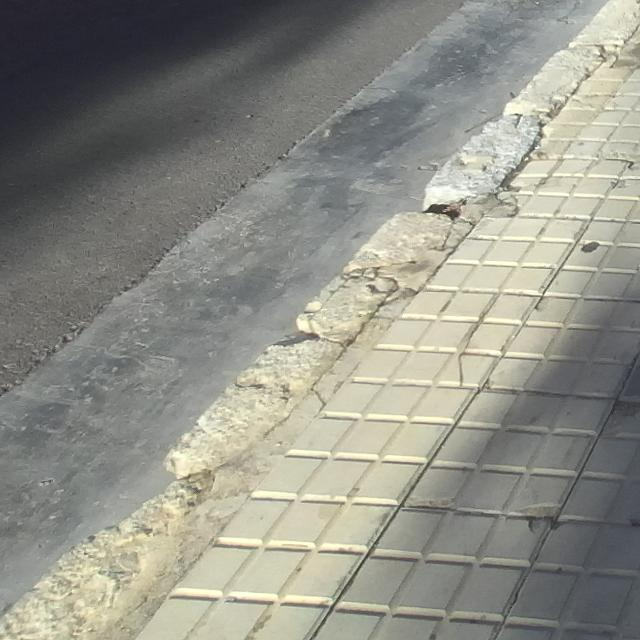calcada_quebrada: (445, 294, 499, 395)
